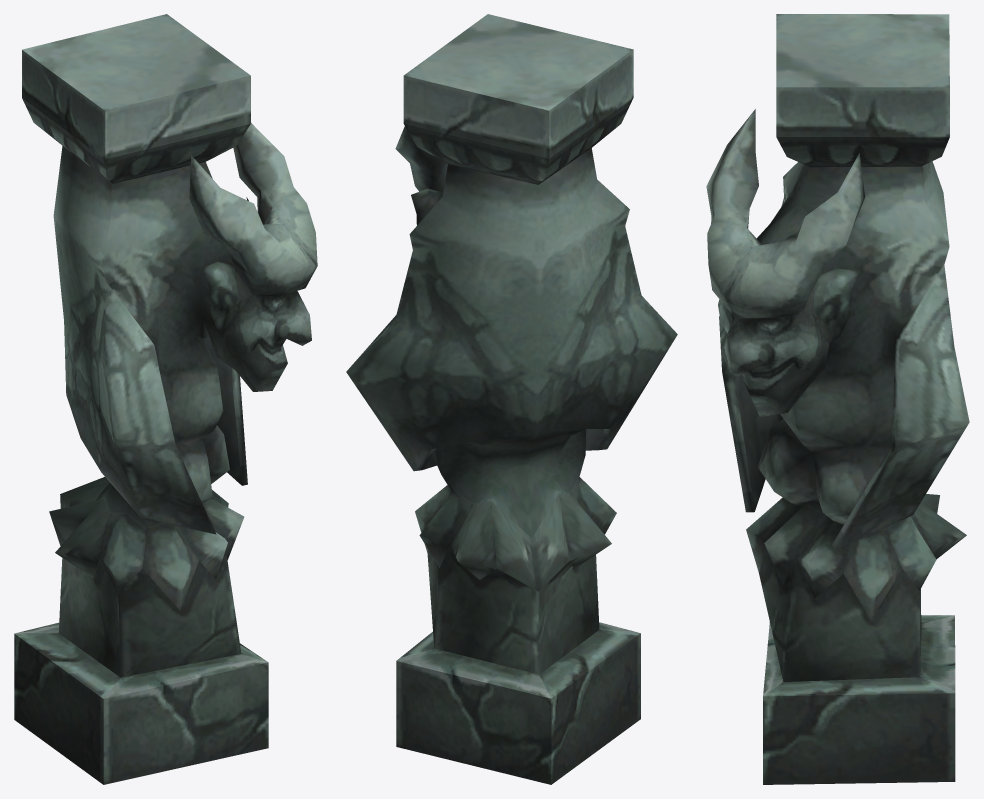
The model's file is crypt_column_gargoyle01.fbx.
The picture shows the model from 3 angles, left to right: view 1: azimuth 30°, elevation 25°; view 2: azimuth 150°, elevation 25°; view 3: azimuth 270°, elevation 25°; orthographic projection. The views are drawn at different scales.
Visible parts, largest first — view 1: sarcophagi_stonework; view 2: sarcophagi_stonework; view 3: sarcophagi_stonework.
Boxes of the visible parts, x1,y1,x2,y2 form: sarcophagi_stonework: [14, 14, 317, 784]; sarcophagi_stonework: [346, 14, 677, 784]; sarcophagi_stonework: [706, 14, 969, 784].
Size of the model in its own units: 1.98 by 5.73 by 1.98.
